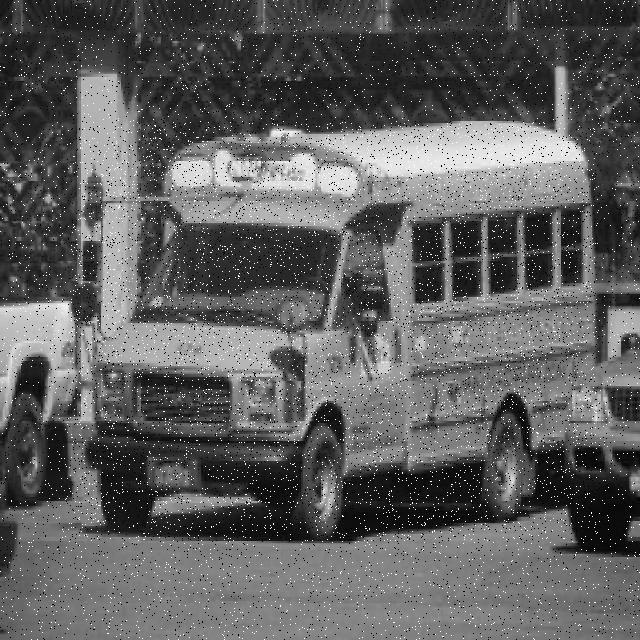Bus- Small: (71, 122, 597, 541)
